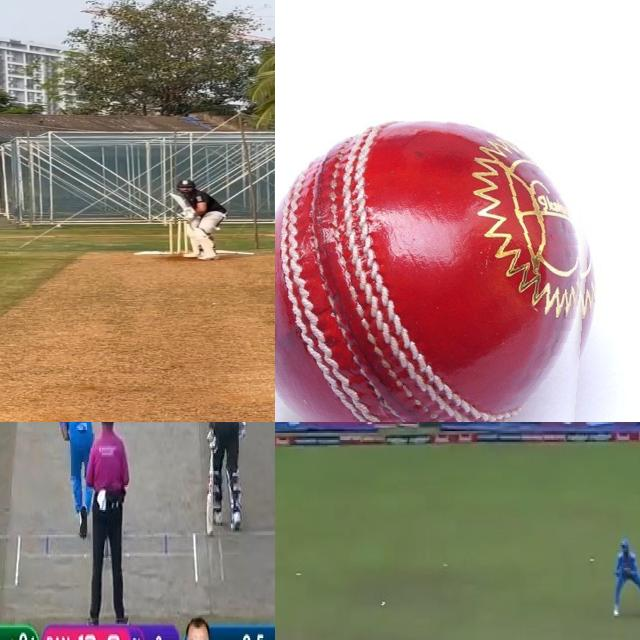Cricket ball: (275, 106, 600, 422), (382, 597, 388, 609)
Stumps: (166, 219, 190, 256)
